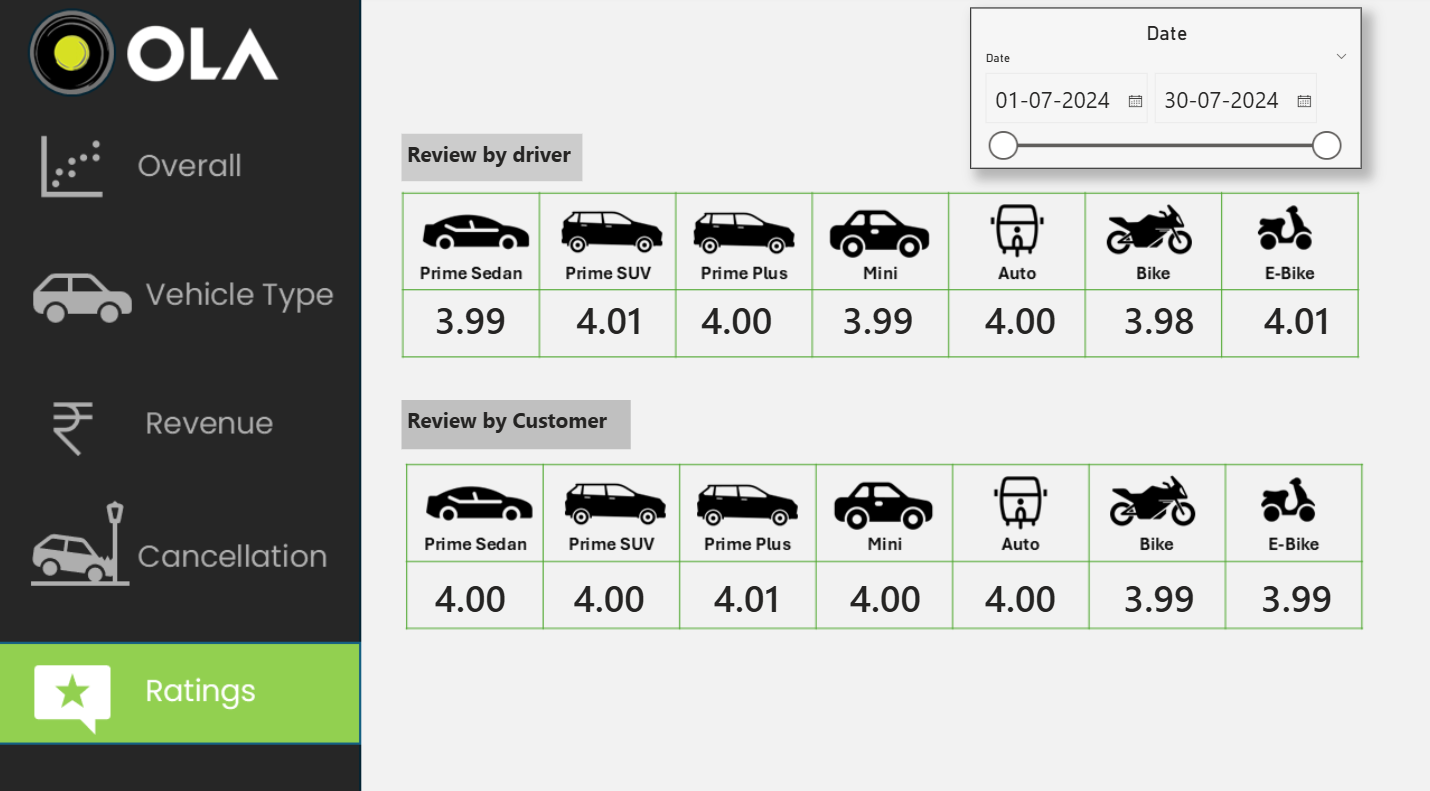

Layout of this report page (visuals, bound fields, positions):
{"tool":"powerbi","page":{"name":"rating","canvas":[1280,720],"ordinal":4},"visuals":[{"type":"actionButton","box":[0,112.8,323.8,83.7],"z":0},{"type":"actionButton","box":[0,230,324.9,90.4],"z":1000},{"type":"actionButton","box":[0,339.5,324.9,90.4],"z":2000},{"type":"actionButton","box":[0,445.5,324.9,90.4],"z":3000},{"type":"cardVisual","fields":{"Data":["Avg(July (2).Driver_Ratings)"]},"box":[359.5,255.2,123.5,65.9],"z":4000},{"type":"cardVisual","fields":{"Data":["Avg(July (2).Driver_Ratings)"]},"box":[483,255.2,123.5,65.9],"z":5000},{"type":"cardVisual","fields":{"Data":["Avg(July (2).Driver_Ratings)"]},"box":[596.9,255.2,123.5,65.9],"z":6000},{"type":"cardVisual","fields":{"Data":["Avg(July (2).Driver_Ratings)"]},"box":[720.4,255.2,130.4,65.9],"z":7000},{"type":"cardVisual","fields":{"Data":["Avg(July (2).Driver_Ratings)"]},"box":[850.8,255.2,123.5,65.9],"z":8000},{"type":"cardVisual","fields":{"Data":["Avg(July (2).Driver_Ratings)"]},"box":[974.3,255.2,123.5,65.9],"z":9000},{"type":"cardVisual","fields":{"Data":["Avg(July (2).Driver_Ratings)"]},"box":[1097.8,255.2,123.5,65.9],"z":10000},{"type":"cardVisual","fields":{"Data":["Avg(July (2).Customer_Rating)"]},"box":[359.5,503.6,123.5,65.9],"z":11000},{"type":"cardVisual","fields":{"Data":["Avg(July (2).Customer_Rating)"]},"box":[483,503.6,123.5,65.9],"z":11001},{"type":"cardVisual","fields":{"Data":["Avg(July (2).Customer_Rating)"]},"box":[606.5,503.6,123.5,65.9],"z":11002},{"type":"cardVisual","fields":{"Data":["Avg(July (2).Customer_Rating)"]},"box":[730,503.6,123.5,65.9],"z":11003},{"type":"cardVisual","fields":{"Data":["Avg(July (2).Customer_Rating)"]},"box":[850.8,503.6,123.5,65.9],"z":11004},{"type":"cardVisual","fields":{"Data":["Avg(July (2).Customer_Rating)"]},"box":[974.3,503.6,123.5,65.9],"z":11005},{"type":"cardVisual","fields":{"Data":["Avg(July (2).Customer_Rating)"]},"box":[1097.8,503.6,123.5,65.9],"z":11006},{"type":"textbox","box":[359.5,123.5,161.9,42.5],"z":11007},{"type":"textbox","box":[359.5,362.3,204.5,43.9],"z":11008},{"type":"slicer","title":"Date","fields":{"Values":["July (2).Date"]},"box":[867.2,11,349.9,144.1],"z":11009}]}

Visuals, with their boxes in screenshot pixels (x1, y1, x2, y2), scaled from the page's 1280x720 canvas onto the 1430x791 screenshot:
actionButton: <bbox>0, 124, 362, 216</bbox>
actionButton: <bbox>0, 253, 363, 352</bbox>
actionButton: <bbox>0, 373, 363, 472</bbox>
actionButton: <bbox>0, 489, 363, 589</bbox>
cardVisual - Avg(July (2).Driver_Ratings): <bbox>402, 280, 540, 353</bbox>
cardVisual - Avg(July (2).Driver_Ratings): <bbox>540, 280, 678, 353</bbox>
cardVisual - Avg(July (2).Driver_Ratings): <bbox>667, 280, 805, 353</bbox>
cardVisual - Avg(July (2).Driver_Ratings): <bbox>805, 280, 951, 353</bbox>
cardVisual - Avg(July (2).Driver_Ratings): <bbox>951, 280, 1088, 353</bbox>
cardVisual - Avg(July (2).Driver_Ratings): <bbox>1088, 280, 1226, 353</bbox>
cardVisual - Avg(July (2).Driver_Ratings): <bbox>1226, 280, 1364, 353</bbox>
cardVisual - Avg(July (2).Customer_Rating): <bbox>402, 553, 540, 626</bbox>
cardVisual - Avg(July (2).Customer_Rating): <bbox>540, 553, 678, 626</bbox>
cardVisual - Avg(July (2).Customer_Rating): <bbox>678, 553, 816, 626</bbox>
cardVisual - Avg(July (2).Customer_Rating): <bbox>816, 553, 954, 626</bbox>
cardVisual - Avg(July (2).Customer_Rating): <bbox>951, 553, 1088, 626</bbox>
cardVisual - Avg(July (2).Customer_Rating): <bbox>1088, 553, 1226, 626</bbox>
cardVisual - Avg(July (2).Customer_Rating): <bbox>1226, 553, 1364, 626</bbox>
textbox: <bbox>402, 136, 583, 182</bbox>
textbox: <bbox>402, 398, 630, 446</bbox>
"Date" slicer: <bbox>969, 12, 1360, 170</bbox>
